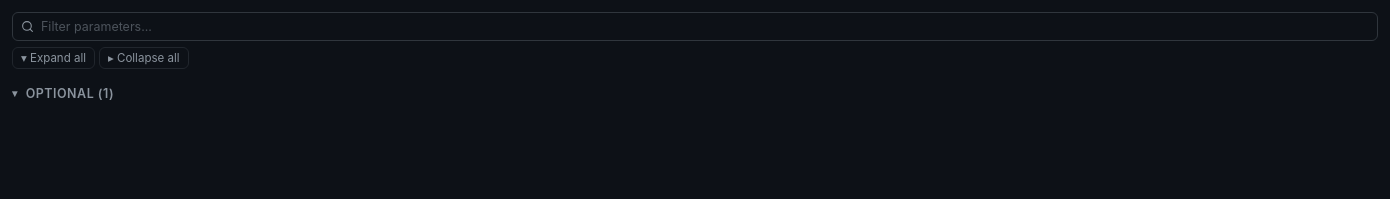
Test: ParamEditor › shows default value badge when optional param has defaultValue
Click the button "▾ Optional (1)". click: (70, 94)
box: [12,77,1378,111]
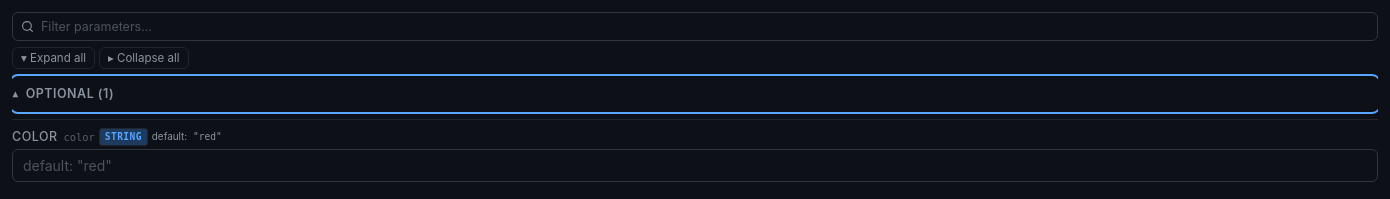
Check: the text "default: \"red\"" is shown, box [152,129,225,145]
